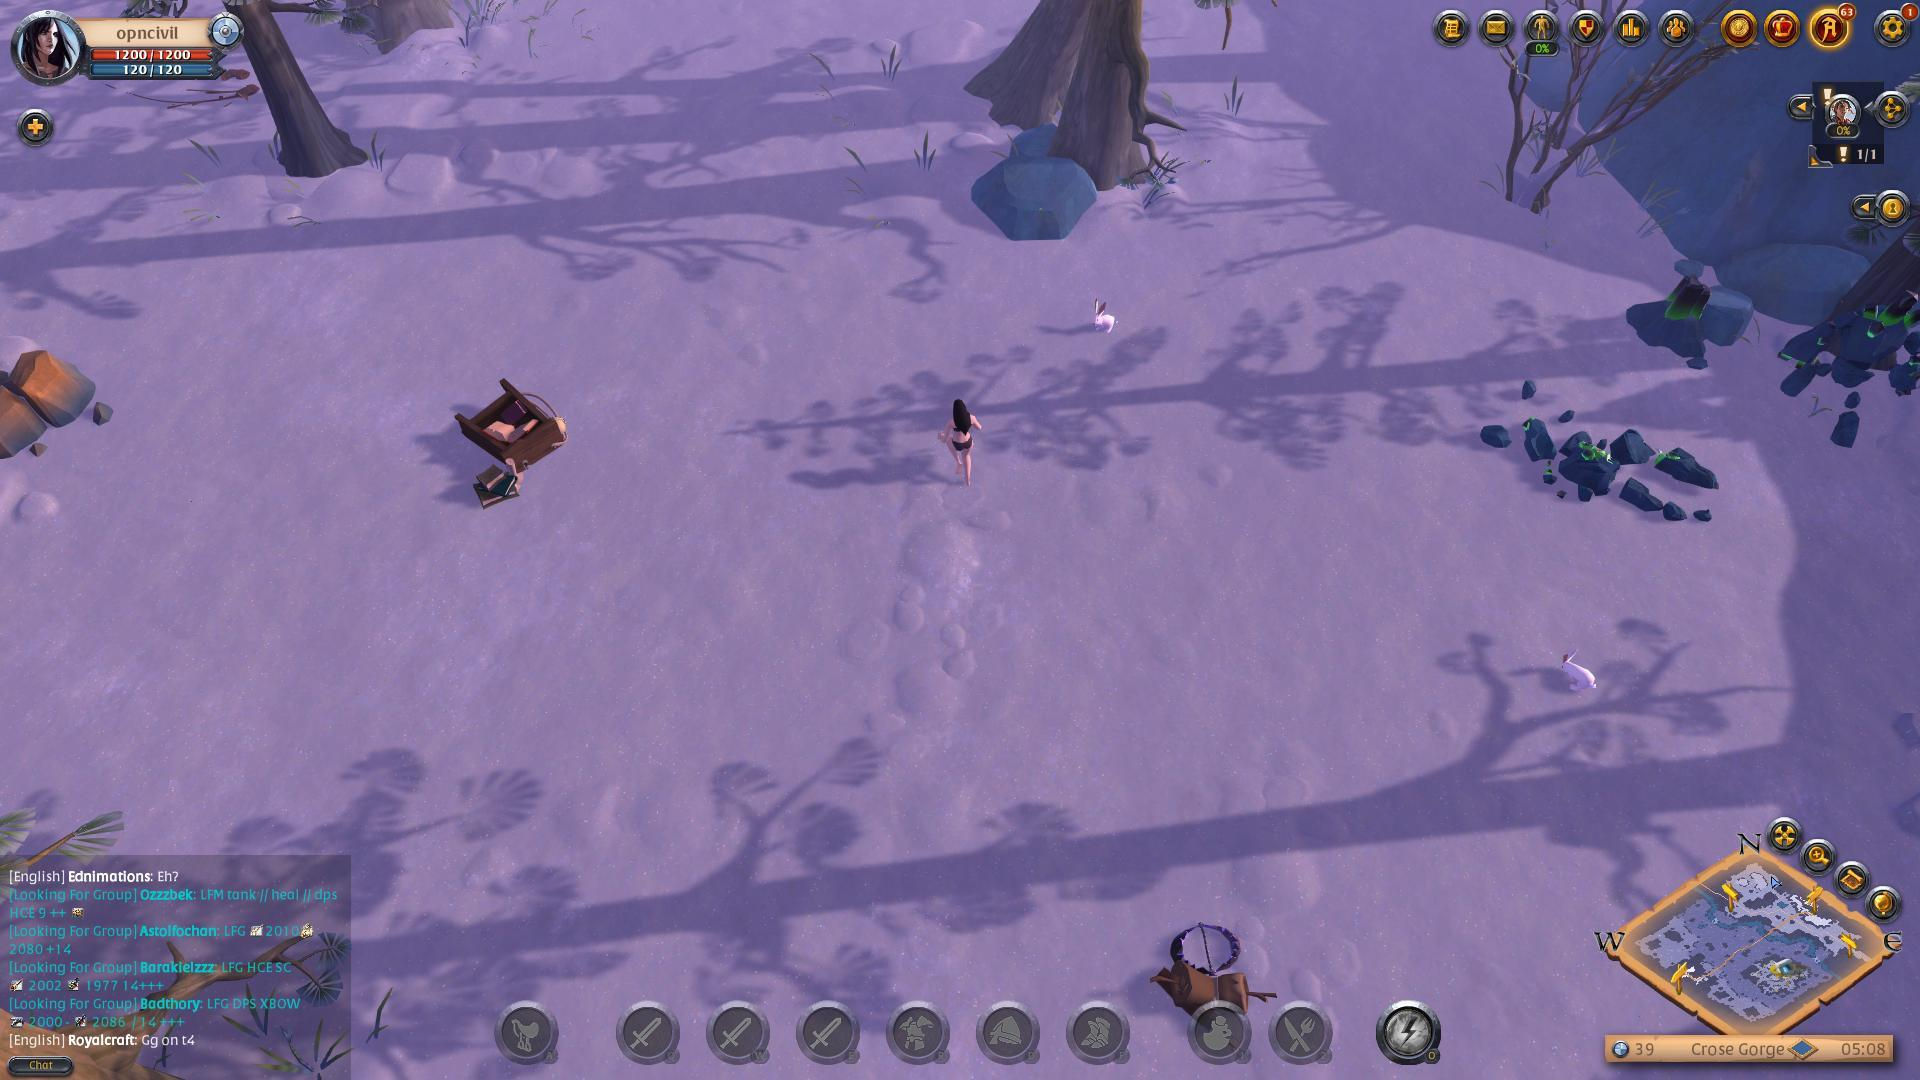limestone: (0, 342, 109, 468)
tin_ore: (1623, 270, 1718, 372)
